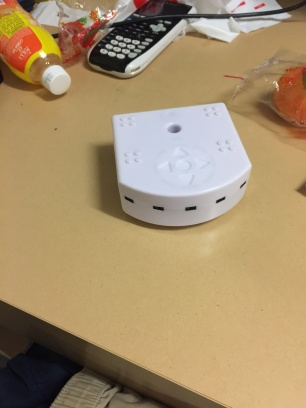thymio: (100, 99, 255, 233)
